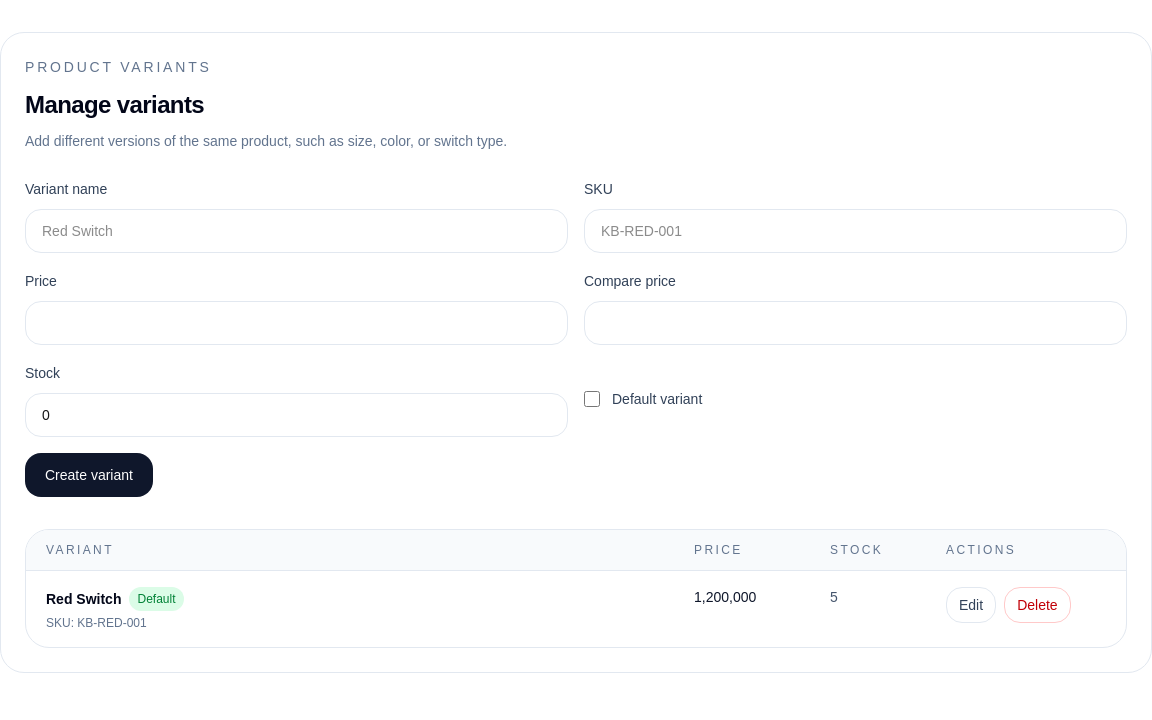
SellerProductVariantsManager › loads a variant into edit mode and updates it
Click the button "Edit" at (971, 605), box [946, 587, 996, 623]
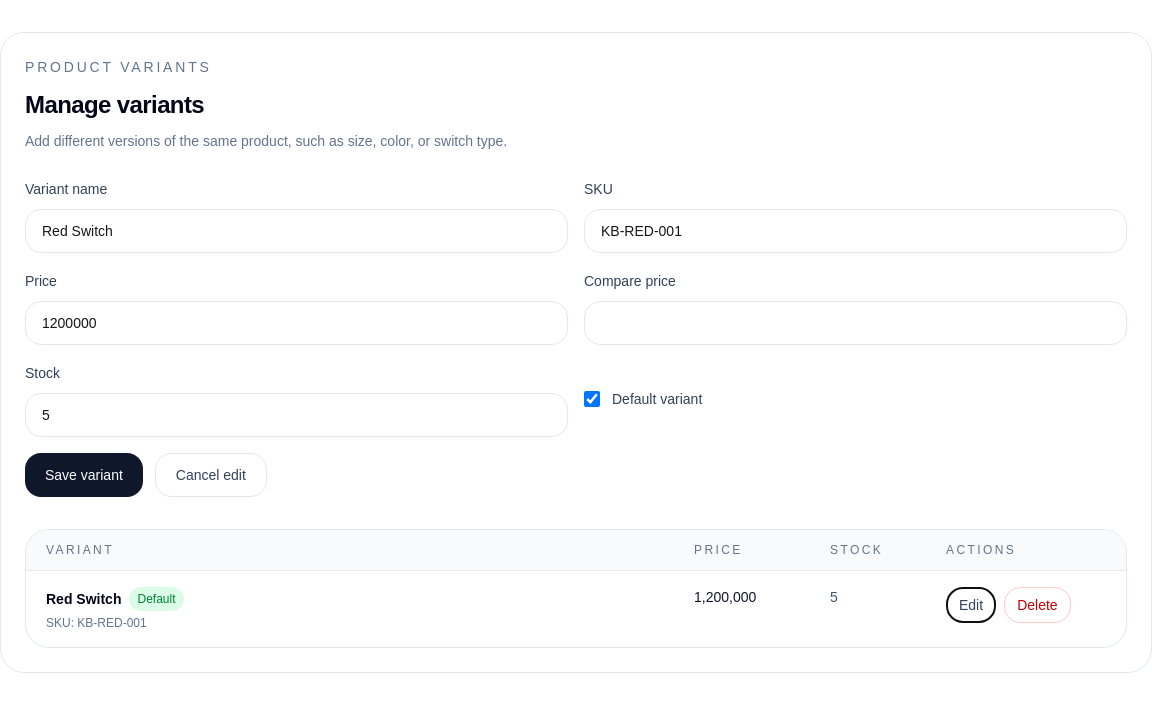
Type "Updated Red Switch" into the field labelled "Variant name" at (296, 231), box [25, 209, 568, 253]
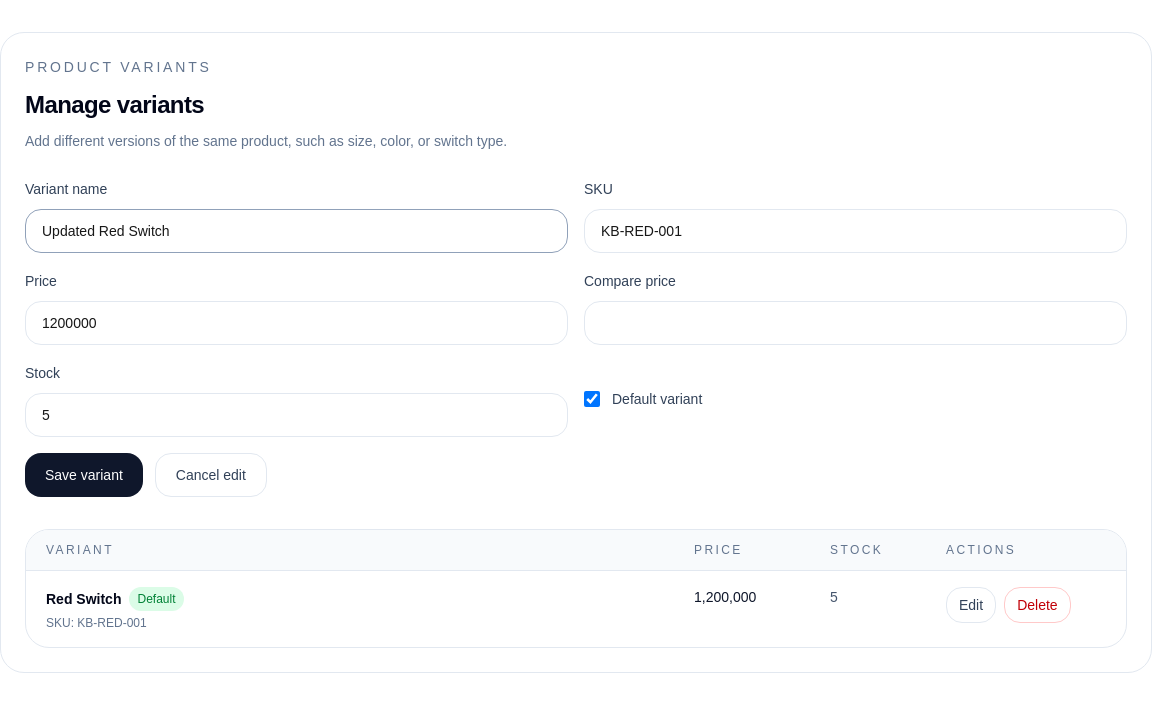
Replace the text in the number field labelled "Price" with "1300000" at (296, 323), box [25, 301, 568, 345]
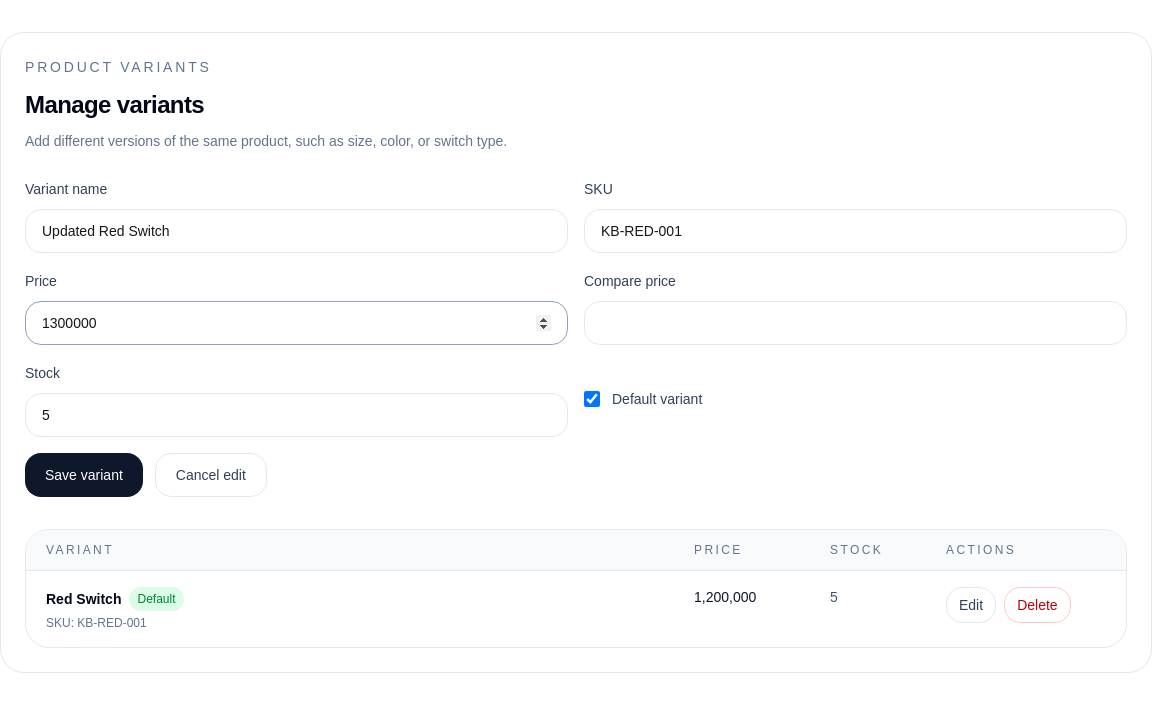
Click the button "Save variant" at (84, 475), box [25, 453, 143, 497]
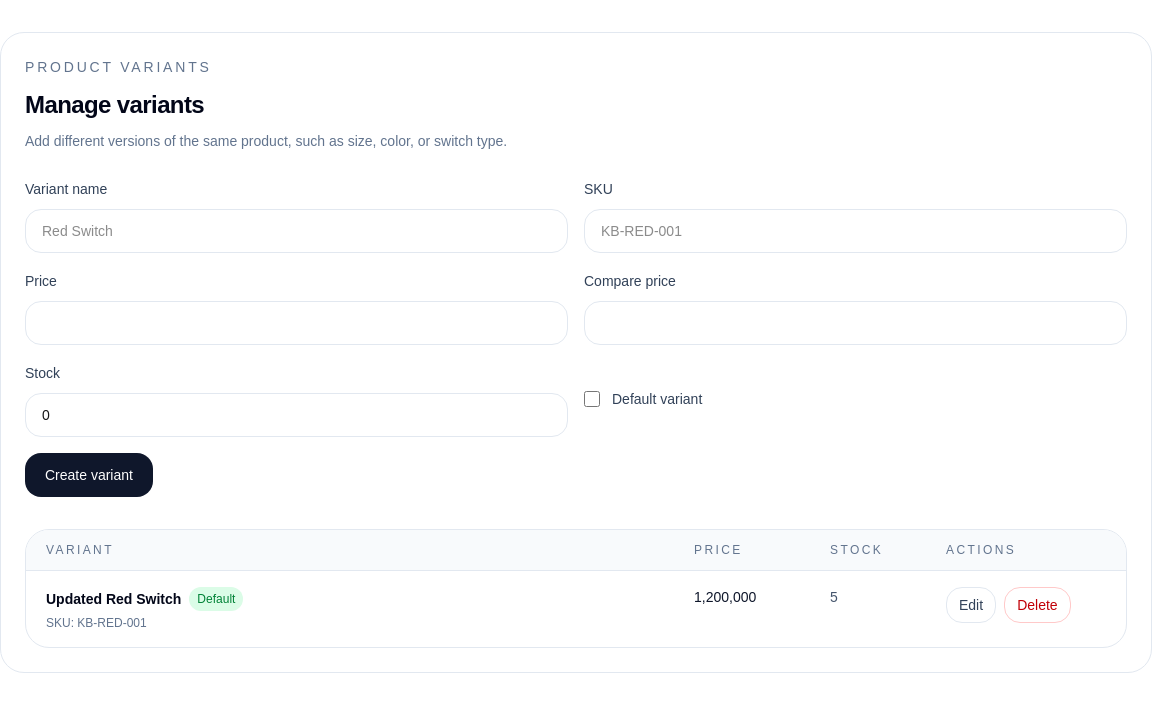
Expected: the text "Updated Red Switch" is shown, [46, 589, 181, 609]
